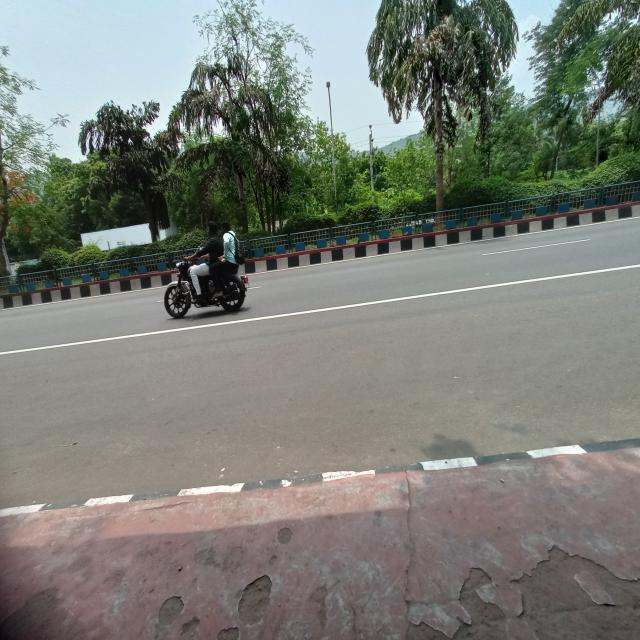bike: (162, 250, 260, 326)
